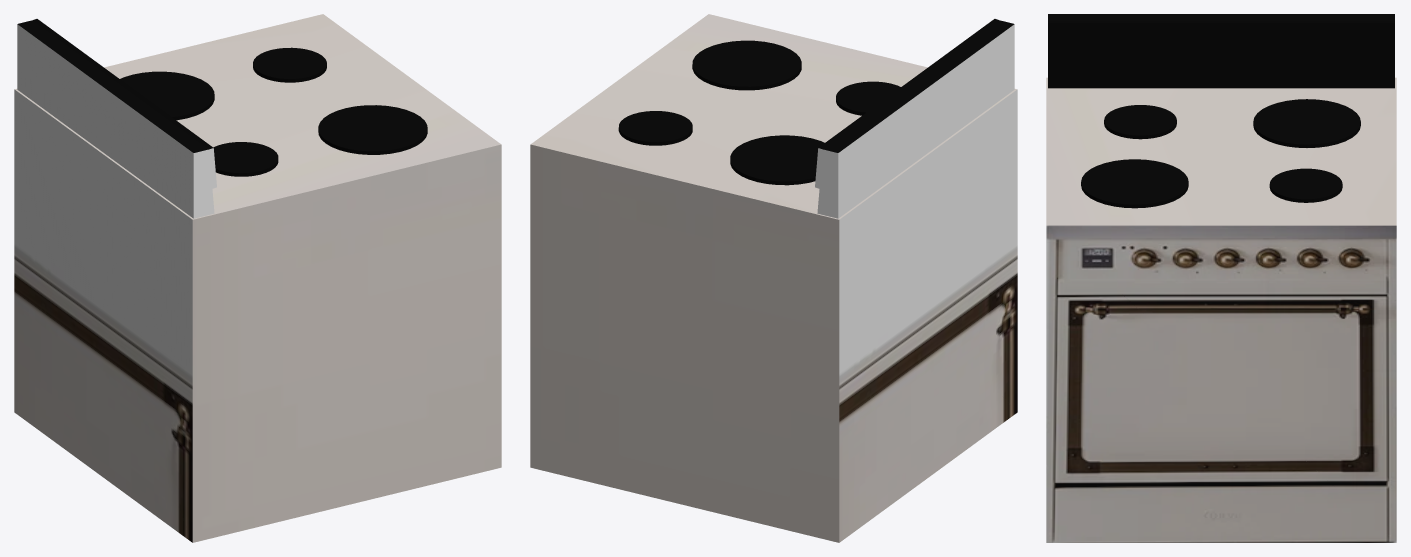
The model's file is stove.glb.
The picture shows the model from 3 angles, left to right: view 1: azimuth 30°, elevation 25°; view 2: azimuth 150°, elevation 25°; view 3: azimuth 270°, elevation 25°; orthographic projection.
Parts seen in each view (by area): view 1: Cube, Cylinder, Cylinder.001, Cylinder.002, Cylinder.003; view 2: Cube, Cylinder, Cylinder.001, Cylinder.002, Cylinder.003; view 3: Cube, Cylinder, Cylinder.001, Cylinder.002, Cylinder.003.
Boxes of the visible parts, bbox=[...] form: Cube: bbox=[14, 14, 501, 542]; Cylinder: bbox=[318, 105, 427, 154]; Cylinder.001: bbox=[120, 71, 214, 120]; Cylinder.002: bbox=[253, 47, 326, 82]; Cylinder.003: bbox=[213, 142, 278, 176]; Cube: bbox=[530, 14, 1017, 542]; Cylinder: bbox=[692, 40, 801, 90]; Cylinder.001: bbox=[730, 135, 824, 185]; Cylinder.002: bbox=[618, 111, 692, 145]; Cylinder.003: bbox=[836, 81, 900, 115]; Cube: bbox=[1046, 14, 1396, 542]; Cylinder: bbox=[1081, 159, 1188, 208]; Cylinder.001: bbox=[1253, 99, 1360, 147]; Cylinder.002: bbox=[1269, 168, 1342, 202]; Cylinder.003: bbox=[1104, 105, 1176, 139].
Size of what is drawn, in the model's own units: 0.9947 by 1.2 by 0.9947.
Materials: 2 (1 with a texture image).
